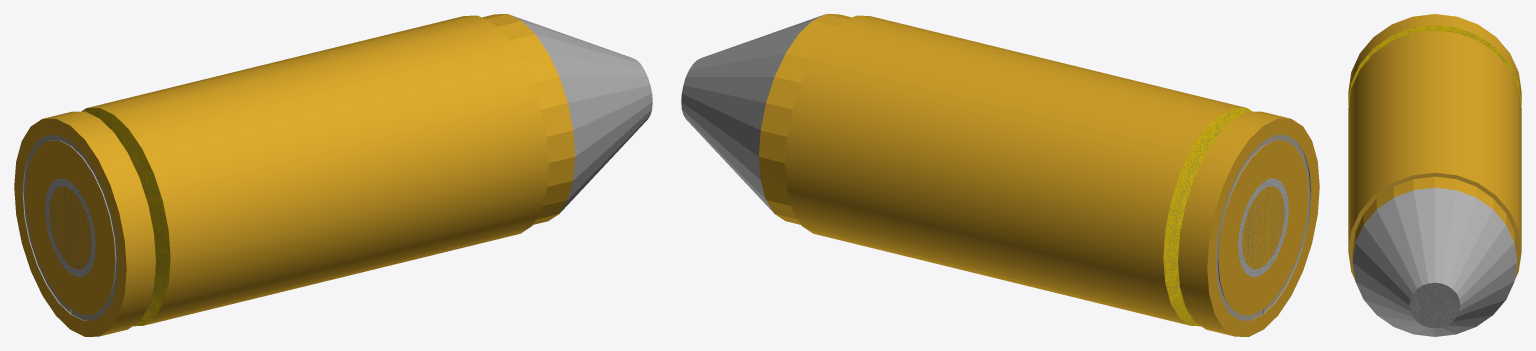
3 views of the same model, side by side, from view 1: azimuth 30°, elevation 25°; view 2: azimuth 150°, elevation 25°; view 3: azimuth 270°, elevation 25° (orthographic). The views are drawn at different scales.
Visible parts, largest first — view 1: SketchUp (×9); view 2: SketchUp (×9); view 3: SketchUp (×7).
Part boxes in pixels (box(x1,y1,x2,y2)): SketchUp (×9): box(14, 14, 652, 336); SketchUp (×9): box(681, 14, 1319, 336); SketchUp (×7): box(1348, 14, 1521, 336).
Bounding box in the file's own units: 229 × 78.74 × 78.74.
